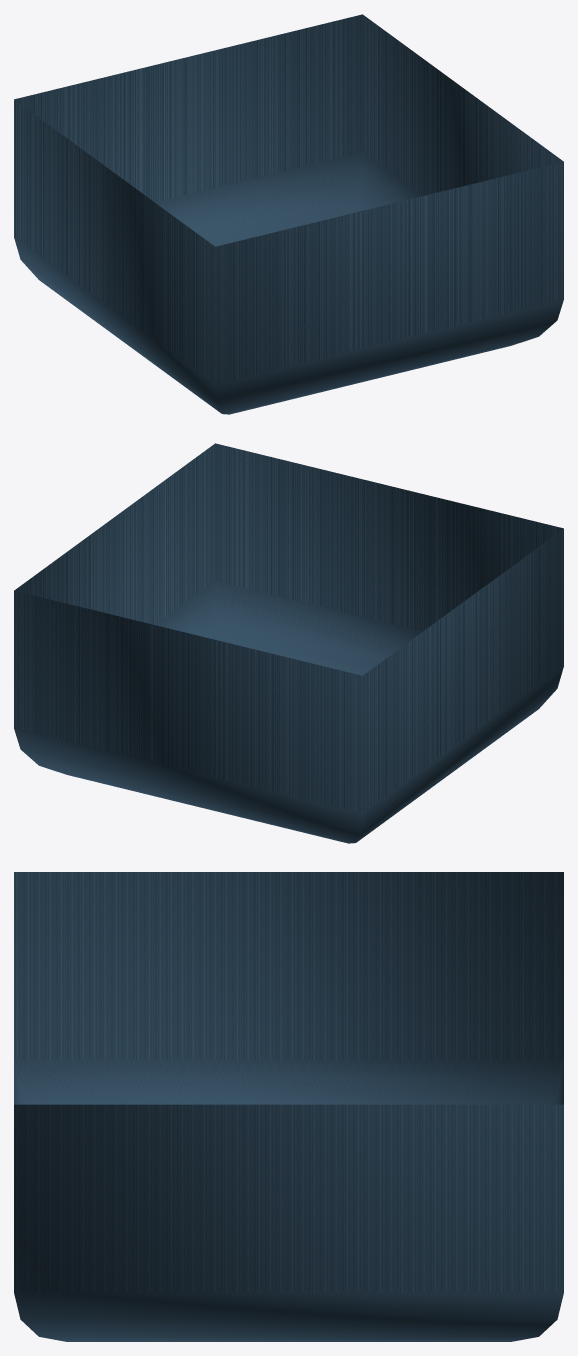
File: fc-web11.gltf
3 views of the same model, one above another, from view 1: azimuth 30°, elevation 25°; view 2: azimuth 150°, elevation 25°; view 3: azimuth 270°, elevation 25° (orthographic). The views are drawn at different scales.
Visible parts, largest first — view 1: floor; view 2: floor; view 3: floor.
Part boxes in pixels (box(x1,y1,x2,y2)): floor: box(14, 14, 563, 414); floor: box(14, 443, 563, 843); floor: box(14, 872, 563, 1341).
Size of the model in its own units: 457 by 243 by 457.
Materials: 12 (2 with a texture image).
